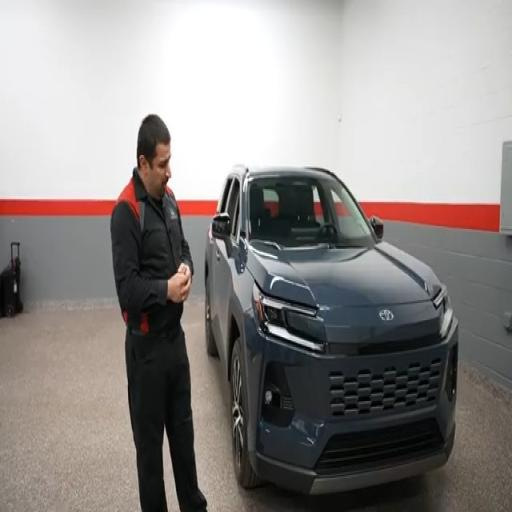bumper: (244, 319, 458, 493), (250, 426, 455, 494)
door: (215, 241, 235, 356), (209, 238, 223, 339)
emblem: (380, 309, 393, 321)
fog_light: (264, 390, 272, 405)
grille: (316, 420, 443, 475), (330, 359, 441, 416)
headlight: (253, 284, 325, 351), (434, 285, 453, 338)
hood: (248, 242, 439, 308)
side_mirror: (212, 212, 231, 254), (212, 214, 230, 240), (370, 217, 383, 238)
tire: (230, 339, 261, 489), (205, 279, 217, 356)
window: (227, 178, 239, 237), (217, 177, 232, 213)
windshield: (248, 174, 375, 247)
